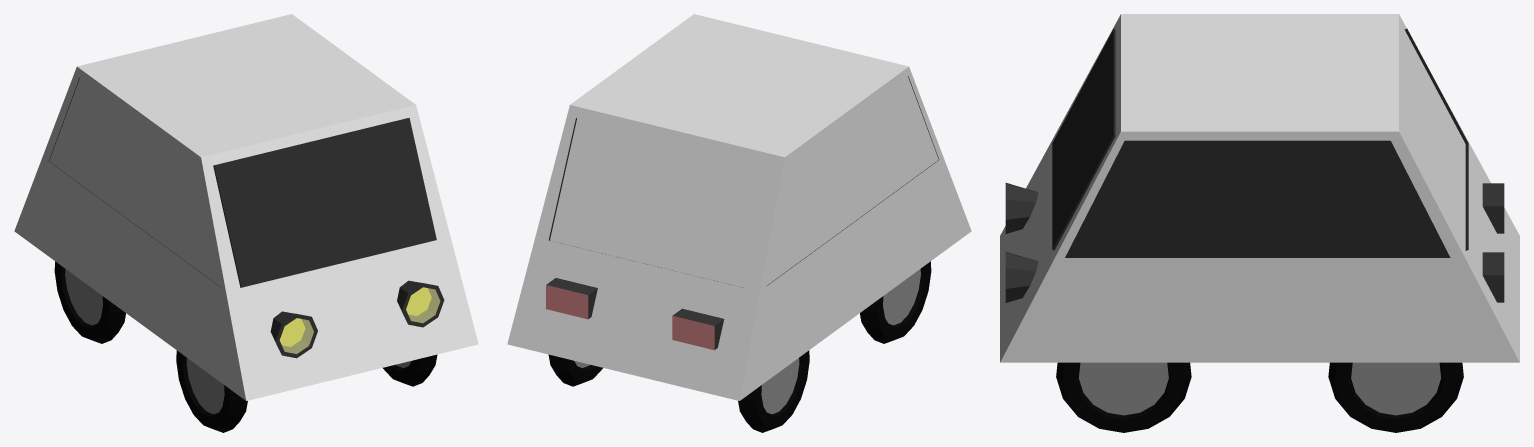
Rendered from car.glb.
3 renders of one model, left to right at view 1: azimuth 30°, elevation 25°; view 2: azimuth 150°, elevation 25°; view 3: azimuth 270°, elevation 25°, orthographic. The views are drawn at different scales.
Visible parts, largest first — view 1: Car; view 2: Car; view 3: Car.
Boxes of the visible parts, x1,y1,x2,y2 form: Car: (14,14,478,432); Car: (507,14,971,432); Car: (1000,14,1519,432).
Size of the model in its own units: 1.1 by 1.25 by 1.91.
